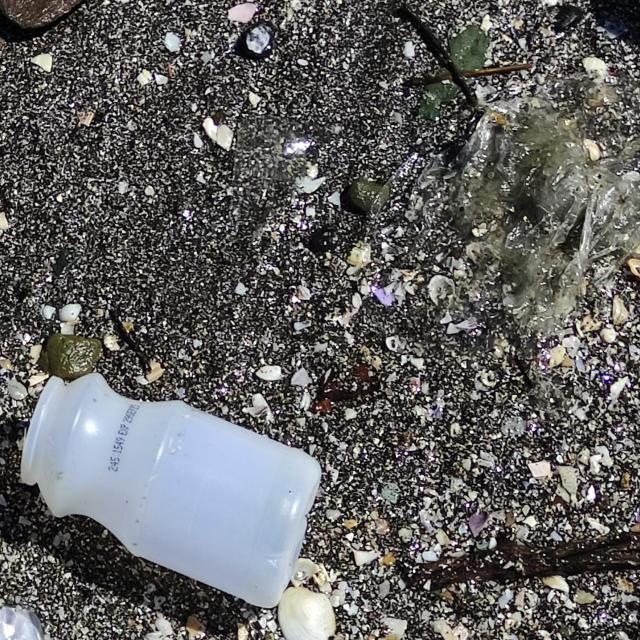plastic_waste: (22, 370, 324, 608), (1, 606, 50, 640)
